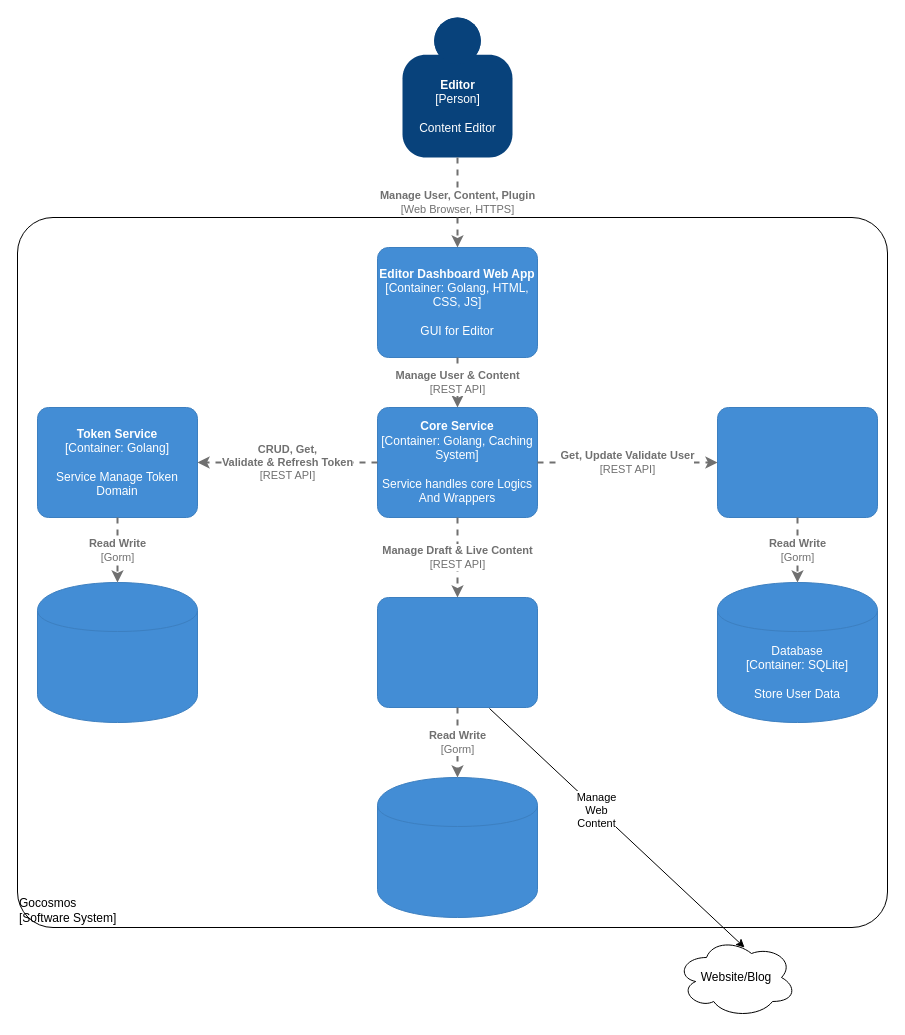
The diagram is 905 pixels wide and 1035 high, and some of its shapes have lost their labels. The centre of each missing label's shape, as x and y in pixels:
Content Service [Container: Golang, SQLite] Service Manage Content: the point at 457,652
Database [Container: SQLite] Store Content Data: the point at 457,847
Database [Container: SQLite] Store Token Data: the point at 117,652
User Service [Container: Golang] Service Manage User Domain: the point at 797,462
